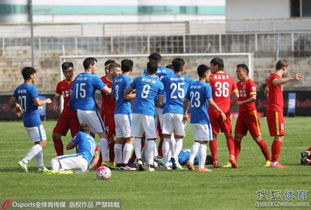10+: (9, 52, 302, 178)
down: (52, 123, 99, 175), (132, 146, 216, 170), (298, 144, 311, 165)
